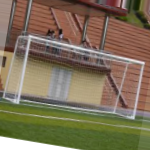goals: (3, 33, 148, 121)
